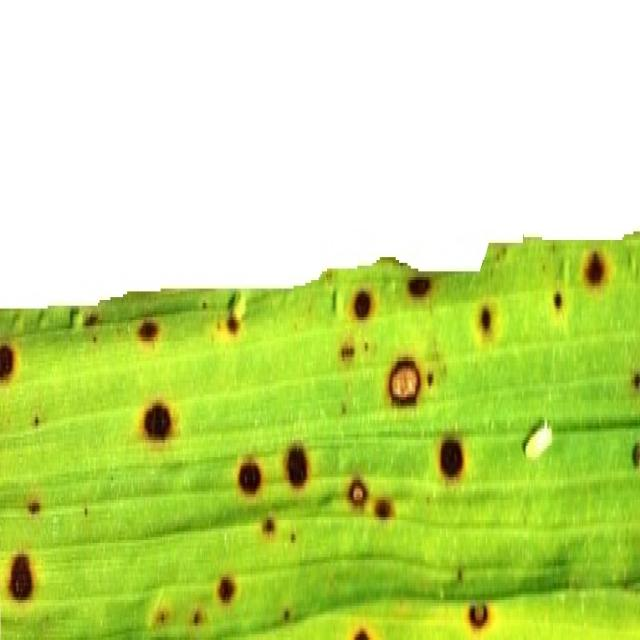Unhealthy: (344, 469, 399, 530), (382, 351, 436, 412), (135, 394, 181, 451), (434, 431, 469, 490), (280, 439, 313, 495), (577, 250, 615, 297), (470, 296, 504, 348), (5, 551, 37, 605), (233, 454, 268, 503), (462, 602, 498, 640), (347, 284, 379, 324), (81, 307, 104, 353), (214, 571, 240, 611), (134, 317, 162, 350), (0, 339, 18, 389), (214, 311, 242, 339), (404, 275, 434, 300), (551, 282, 568, 323), (336, 334, 358, 365), (187, 602, 208, 633), (347, 618, 375, 640), (151, 604, 172, 628), (261, 515, 279, 542), (25, 495, 42, 519), (629, 439, 640, 476), (632, 367, 640, 396), (456, 563, 464, 587), (290, 524, 298, 546), (283, 603, 291, 624), (363, 338, 373, 354), (34, 408, 40, 431), (83, 505, 90, 520), (201, 298, 209, 311)
